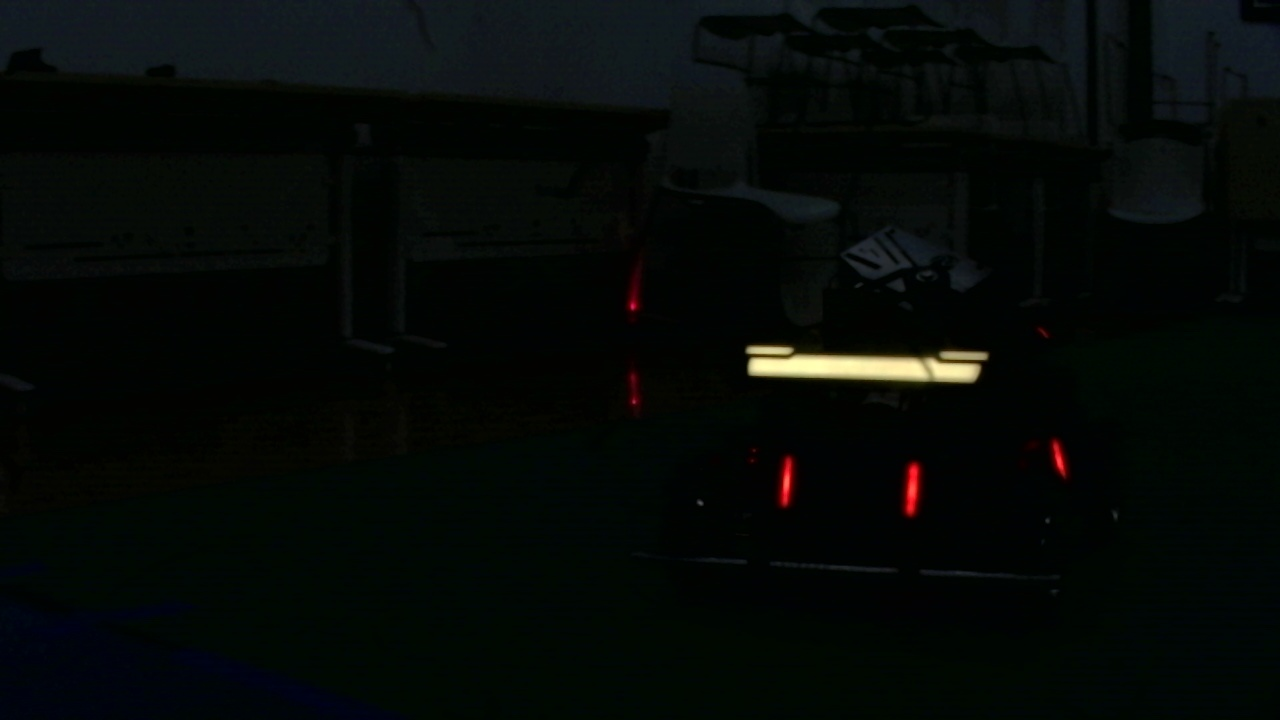lamp: (903, 455, 924, 523), (773, 452, 793, 510), (1047, 432, 1067, 479)
notpair1: (905, 430, 1069, 527)
pair1: (774, 455, 922, 530)
